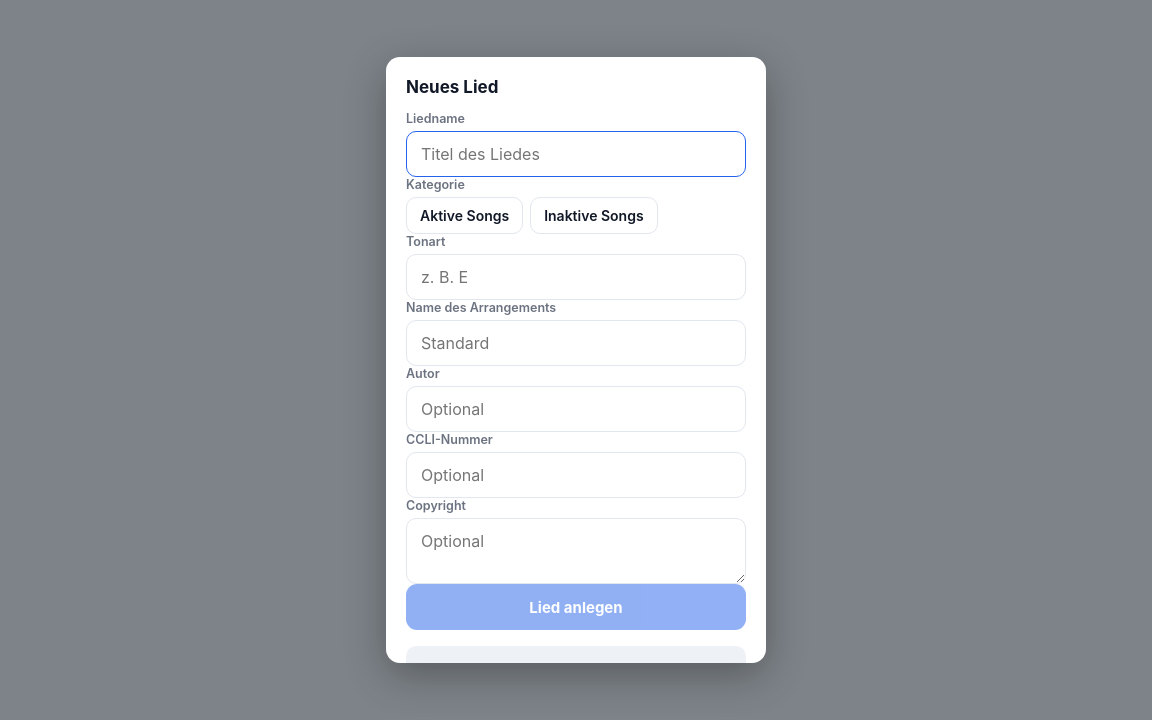
Test: NewSongSheet – gleicher Name › warnt, sperrt aber nicht
The width and height of the screenshot is (1152, 720).
Type "Treu" into the field with placeholder "Titel des Liedes" at (576,154), box x1=406 y1=131 x2=746 y2=177
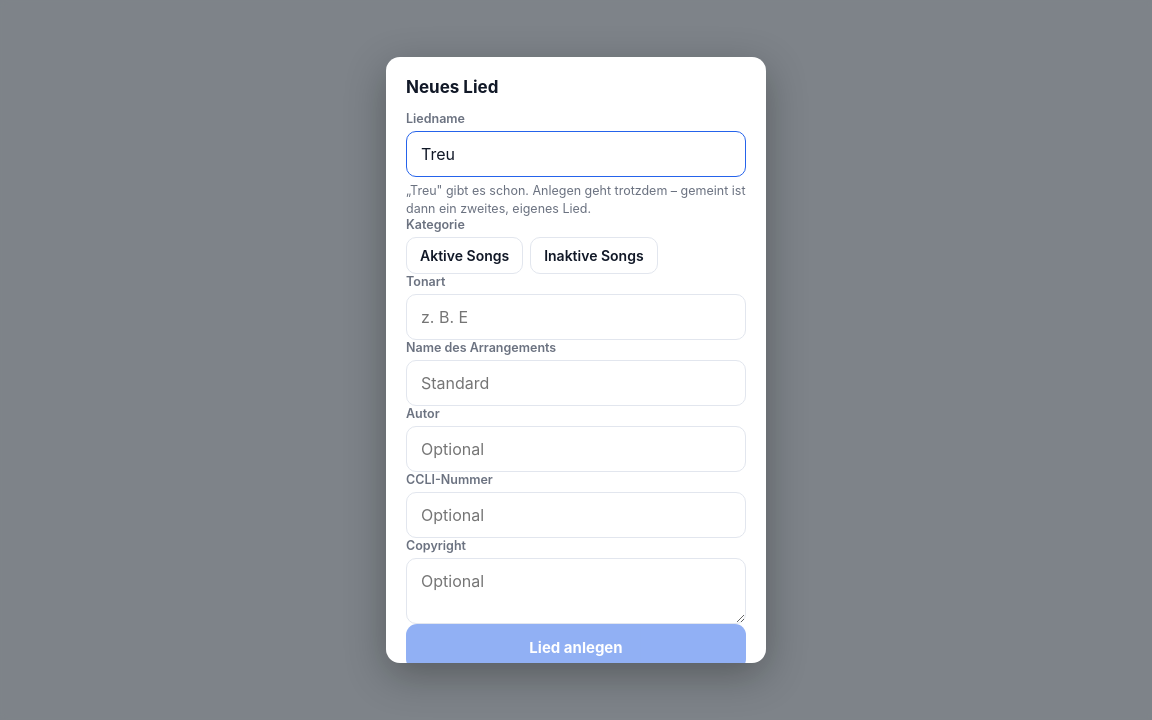
Click the button "Aktive Songs" at (465,256), box x1=406 y1=237 x2=523 y2=274
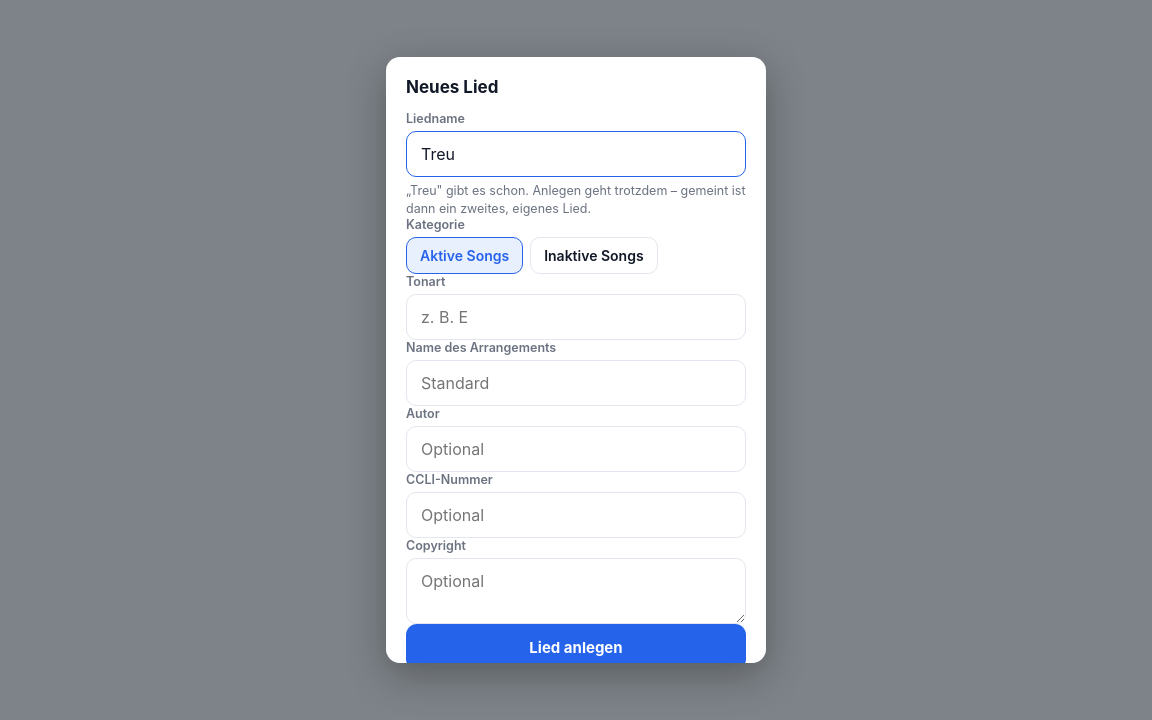
Result: the text "gibt es schon" is shown at x1=406 y1=183 x2=746 y2=216
Result: the button "Lied anlegen" is enabled at x1=406 y1=624 x2=746 y2=663
